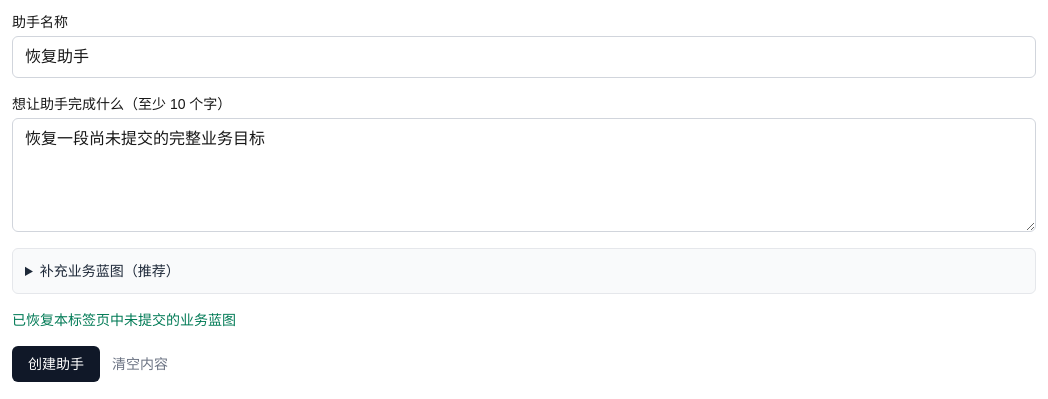
Test: CreateAgentForm › 恢复当前标签页未提交的业务蓝图并可主动清空
Expected: the field showing "恢复助手" is shown, [12,36,1036,78]
Expected: the message reads "已恢复本标签页中未提交的业务蓝图", [12,312,236,328]
Step 1. Click the button "清空内容" → (140, 364), box [112,354,168,374]
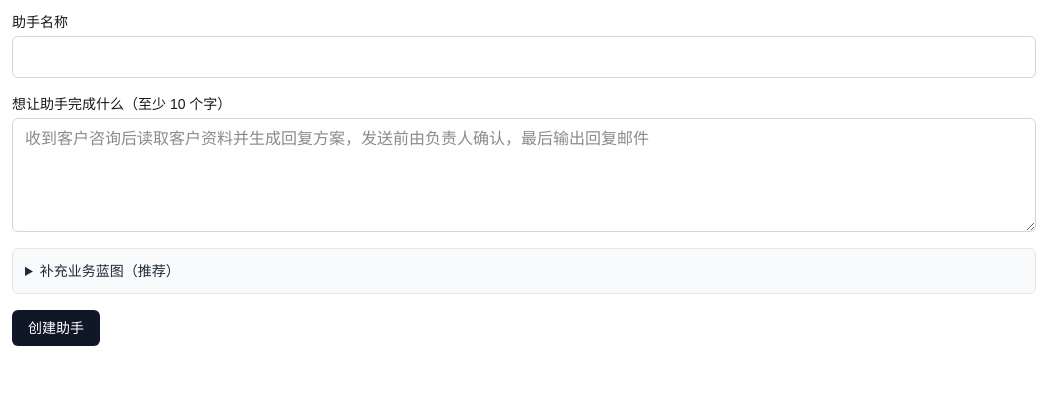
Expected: the field labelled "助手名称" is empty, [12,36,1036,78]
